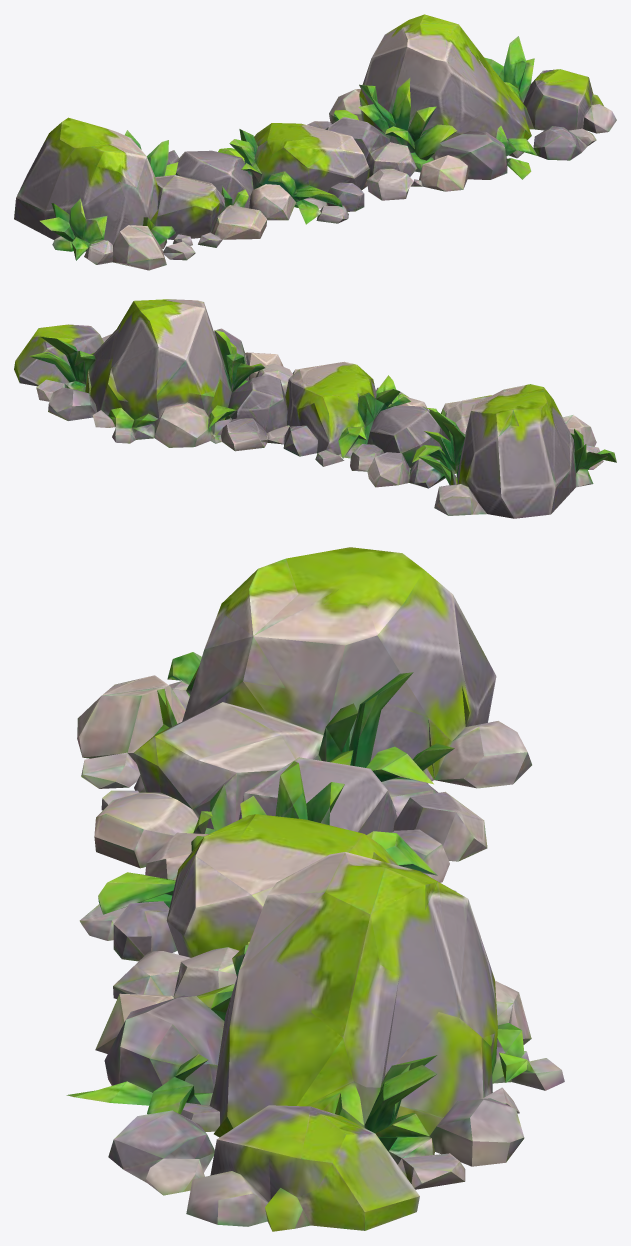
The model's file is shore_rocks_strip_mobile.glb.
3 views of the same model, one above another, from view 1: azimuth 30°, elevation 25°; view 2: azimuth 150°, elevation 25°; view 3: azimuth 270°, elevation 25° (orthographic). The views are drawn at different scales.
Visible parts, largest first — view 1: output_unwrapped; view 2: output_unwrapped; view 3: output_unwrapped.
Part boxes in pixels (box(x1,y1,x2,y2)): output_unwrapped: box(14, 14, 616, 270); output_unwrapped: box(14, 299, 616, 518); output_unwrapped: box(66, 547, 564, 1231).
Size of the model in its own units: 1.9 by 0.3357 by 0.718.
Materials: 1 (1 with a texture image).
